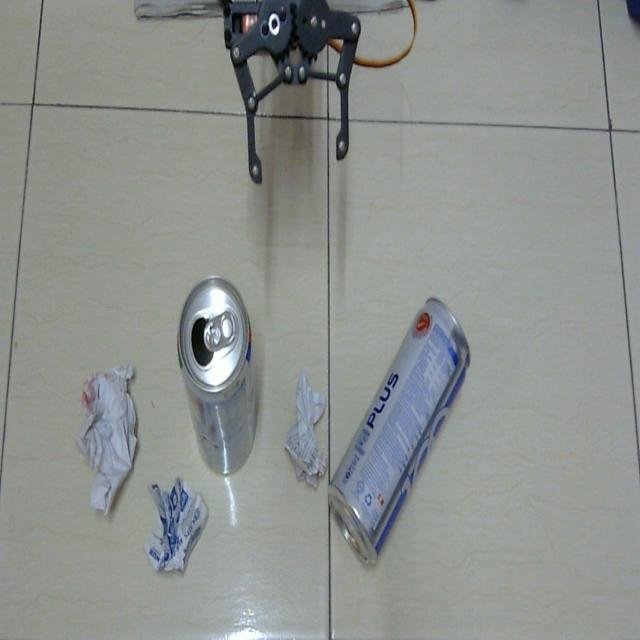Metal-laydown_45right-rotation: (328, 294, 473, 563)
Metal-stand-rotation: (172, 272, 262, 478)
Paperrotation: (74, 361, 144, 513), (144, 478, 208, 584), (284, 371, 331, 491)
